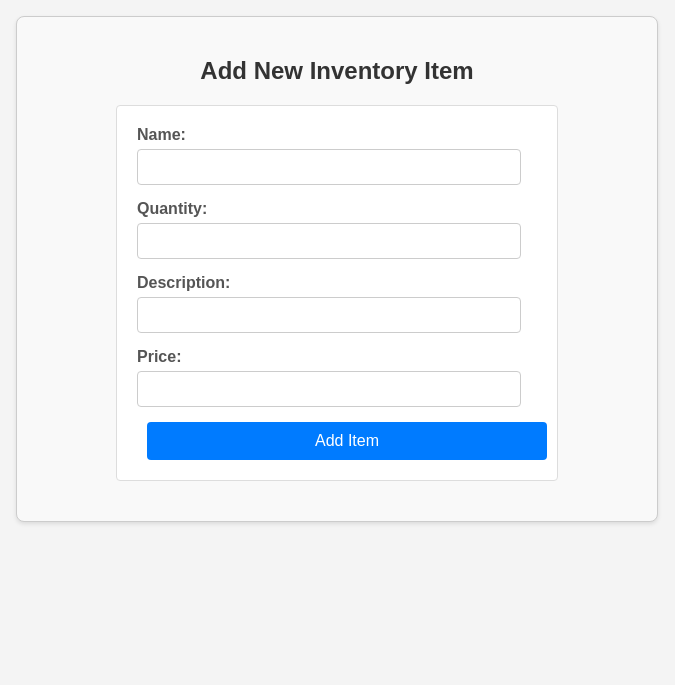
frontend_should_displays error messages for empty required fields
The image size is (675, 685).
Click the button "Add Item": {"x": 347, "y": 441} [147, 422, 547, 460]
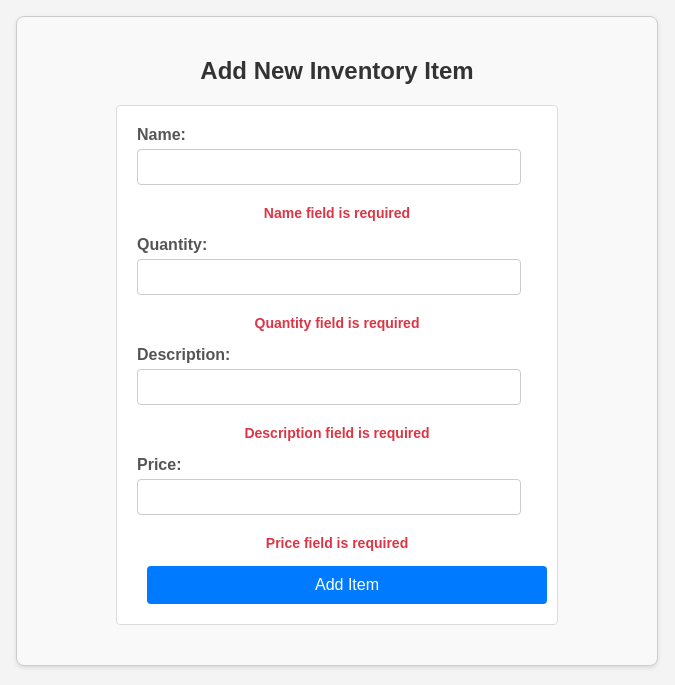
Result: the text "Name field is required" is shown at [264, 205, 410, 221]
Result: the text "Quantity field is required" is shown at [254, 315, 419, 331]
Result: the text "Description field is required" is shown at [244, 425, 430, 441]
